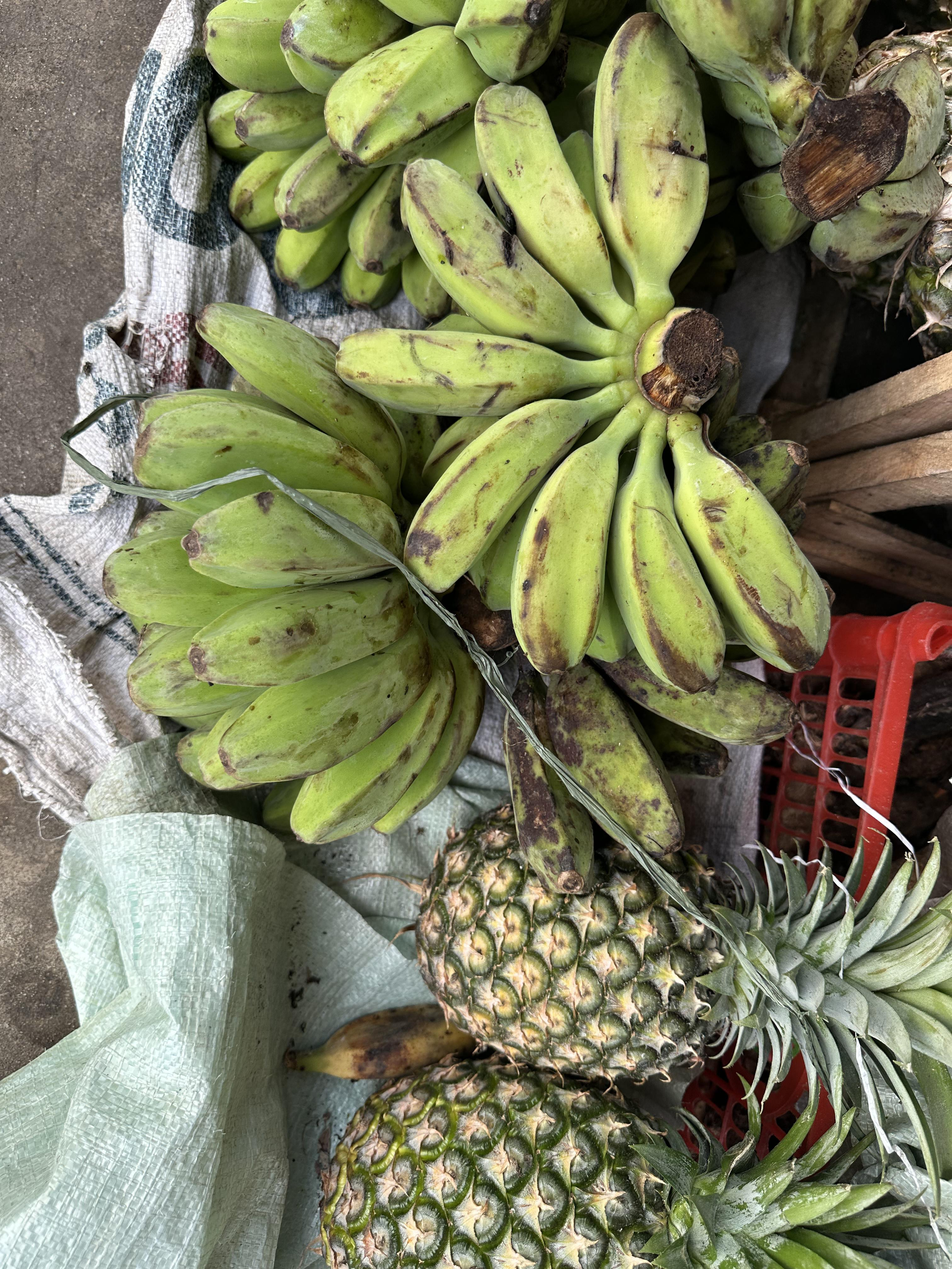underripe: (335, 13, 832, 694), (103, 475, 486, 844), (204, 0, 566, 317), (132, 302, 442, 563), (546, 651, 795, 857)
